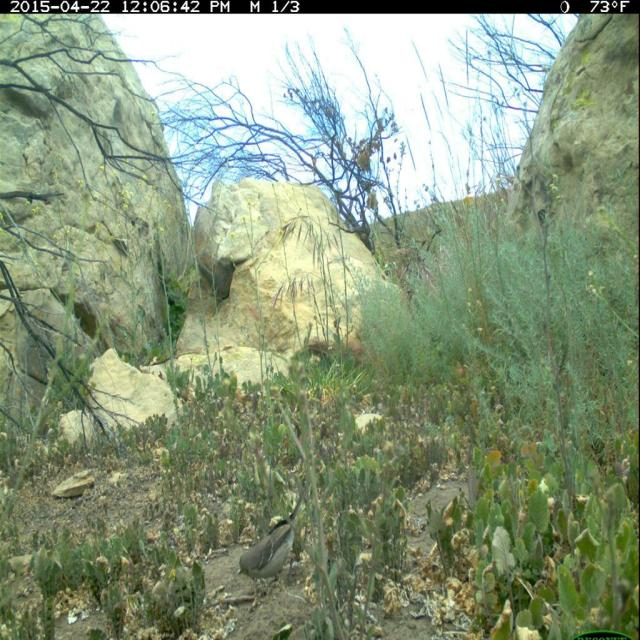bird: (230, 473, 319, 600)
